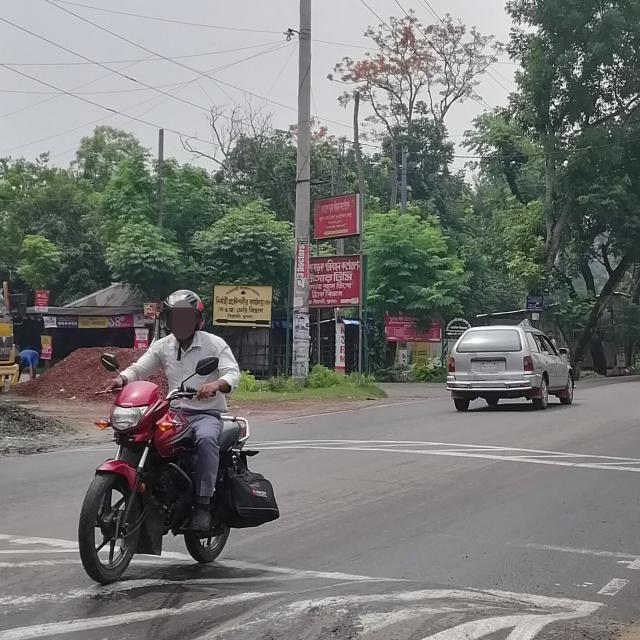Car: (443, 321, 578, 415)
Motorbike: (75, 377, 283, 591)
